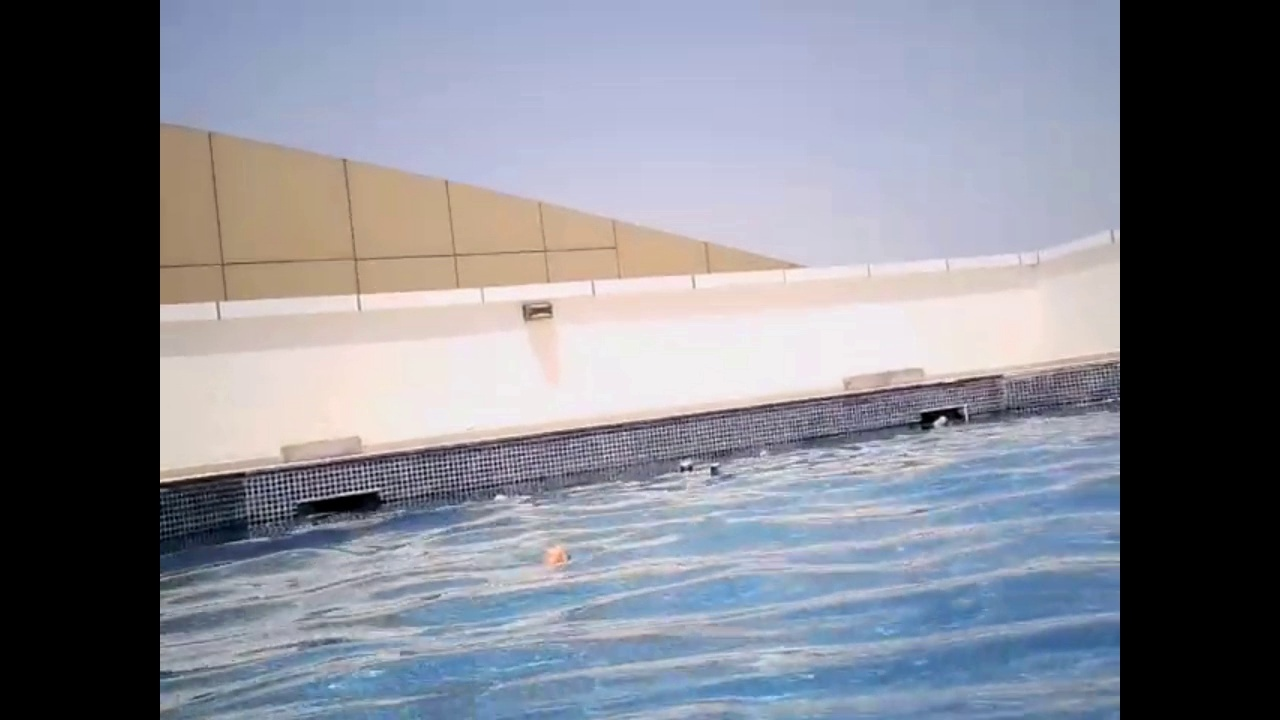debris: (702, 458, 726, 481), (750, 443, 773, 465), (543, 546, 567, 567), (930, 411, 951, 432), (677, 454, 694, 477)
